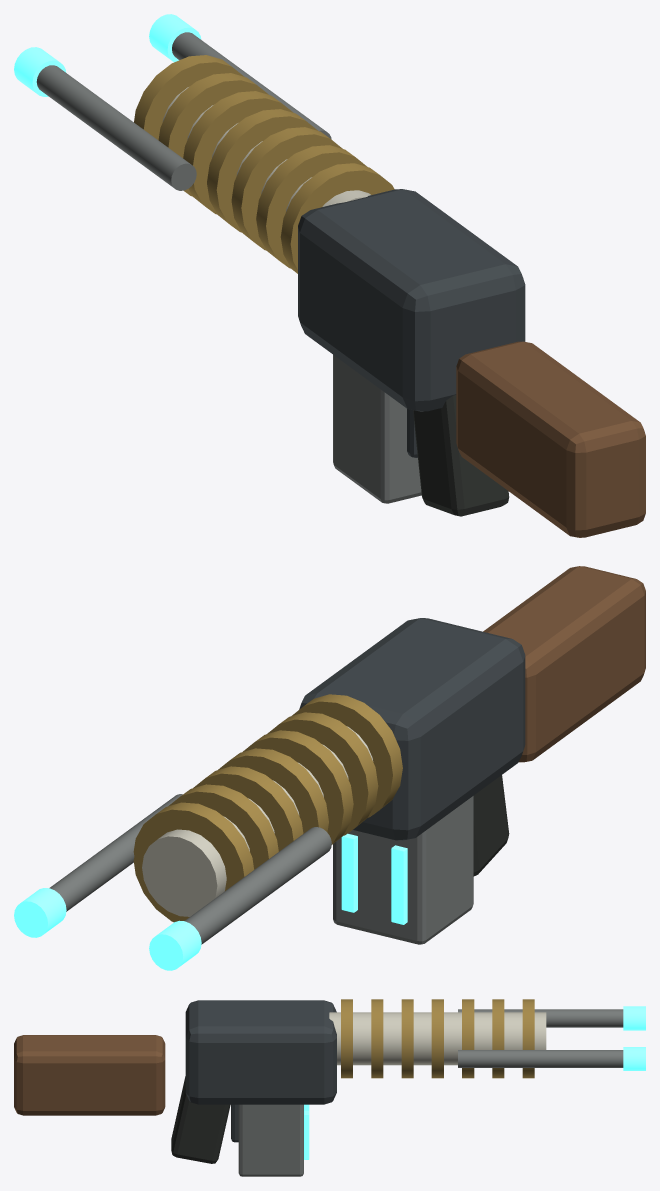
File: noir-arc.glb
3 renders of one model, top to bottom at view 1: azimuth 30°, elevation 25°; view 2: azimuth 150°, elevation 25°; view 3: azimuth 270°, elevation 25°, orthographic. The views are drawn at different scales.
Visible parts, largest first — view 1: weapon-blued-steel.010, weapon-walnut.006, weapon-brass.002, weapon-machined-steel.010, weapon-machined-steel.009, weapon-grip.008, arc-glass.001, arc-ceramic.001; view 2: weapon-blued-steel.010, weapon-brass.002, weapon-walnut.006, weapon-machined-steel.010, weapon-machined-steel.009, arc-ceramic.001, arc-glass.001, arc-glass.002, weapon-grip.008; view 3: weapon-blued-steel.010, weapon-walnut.006, weapon-brass.002, arc-ceramic.001, weapon-machined-steel.010, weapon-machined-steel.009, weapon-grip.008, arc-glass.001, arc-glass.002.
Boxes of the visible parts, x1=… form: weapon-blued-steel.010: x1=298, y1=189, x2=525, y2=457; weapon-walnut.006: x1=456, y1=341, x2=645, y2=537; weapon-brass.002: x1=134, y1=55, x2=394, y2=273; weapon-machined-steel.010: x1=333, y1=355, x2=421, y2=503; weapon-machined-steel.009: x1=36, y1=32, x2=331, y2=190; weapon-grip.008: x1=413, y1=395, x2=509, y2=516; arc-glass.001: x1=14, y1=14, x2=201, y2=96; arc-ceramic.001: x1=162, y1=87, x2=370, y2=211; weapon-blued-steel.010: x1=299, y1=618, x2=525, y2=840; weapon-brass.002: x1=133, y1=694, x2=402, y2=922; weapon-walnut.006: x1=483, y1=566, x2=645, y2=762; weapon-machined-steel.010: x1=333, y1=796, x2=473, y2=944; weapon-machined-steel.009: x1=49, y1=794, x2=331, y2=944; arc-ceramic.001: x1=142, y1=726, x2=373, y2=916; arc-glass.001: x1=14, y1=888, x2=201, y2=970; arc-glass.002: x1=341, y1=833, x2=407, y2=924; weapon-grip.008: x1=473, y1=775, x2=509, y2=876; weapon-blued-steel.010: x1=185, y1=1000, x2=336, y2=1142; weapon-walnut.006: x1=14, y1=1035, x2=165, y2=1115; weapon-brass.002: x1=341, y1=999, x2=534, y2=1078; arc-ceramic.001: x1=329, y1=1012, x2=546, y2=1065; weapon-machined-steel.010: x1=238, y1=1104, x2=303, y2=1176; weapon-machined-steel.009: x1=458, y1=1009, x2=623, y2=1067; weapon-grip.008: x1=171, y1=1076, x2=230, y2=1163; arc-glass.001: x1=623, y1=1006, x2=645, y2=1070; arc-glass.002: x1=304, y1=1104, x2=309, y2=1159.
Bounding box in the file's own units: 0.238 × 0.354 × 1.25.
